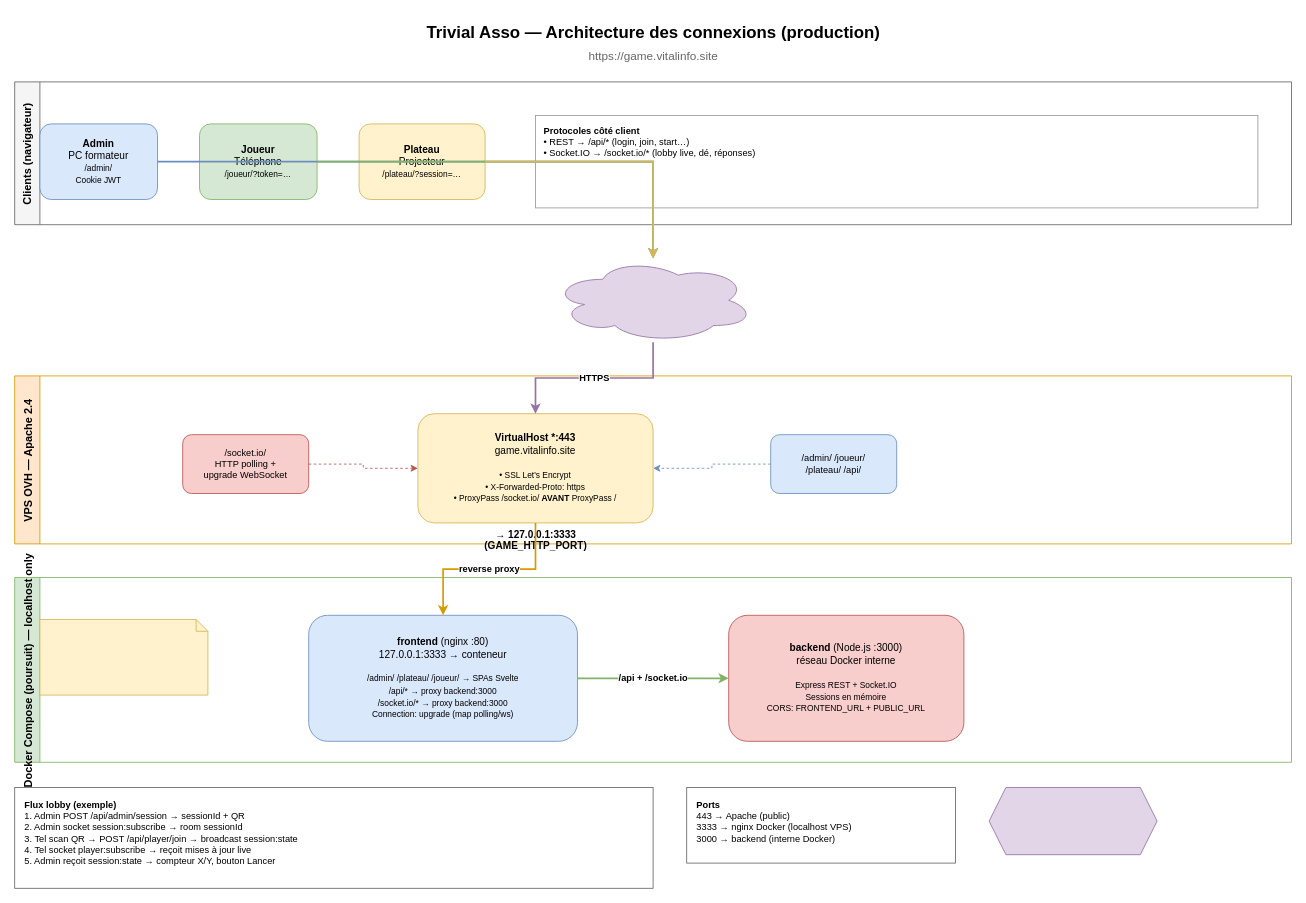
This 1306x903 diagram has some shape labels left out. Each missing label, with the centre of its shape:
".env.prod PUBLIC_URL, FRONTEND_URL, JWT_SECRET, GAME_HTTP_PORT=3333" goes at (123,657).
"Internet — HTTPS :443" goes at (652,299).
"Room Socket.IO = sessionId (admin + joueurs + plateau)" goes at (1072,821).
